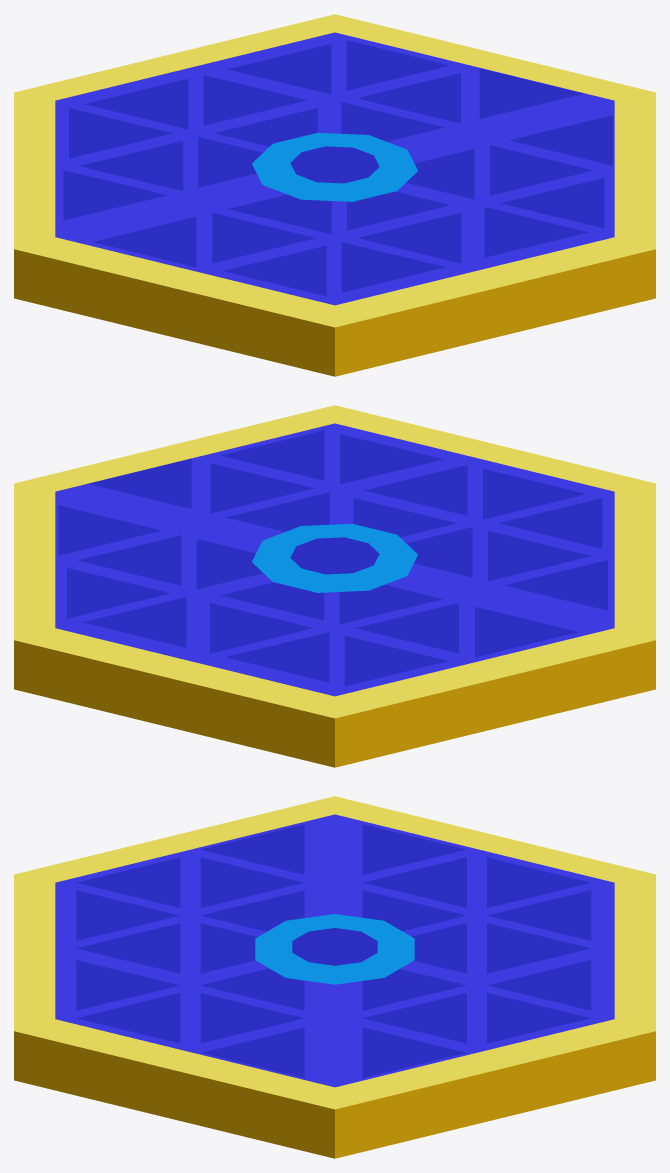
File: Aircraft_027_b.fbx
The picture shows the model from 3 angles, top to bottom: view 1: azimuth 30°, elevation 25°; view 2: azimuth 150°, elevation 25°; view 3: azimuth 270°, elevation 25°; orthographic projection.
Visible parts, largest first — view 1: Aircraft_027_b; view 2: Aircraft_027_b; view 3: Aircraft_027_b.
Boxes of the visible parts, left/top/right/bottom form: Aircraft_027_b: left=14, top=14, right=655, bottom=376; Aircraft_027_b: left=14, top=405, right=655, bottom=767; Aircraft_027_b: left=14, top=796, right=655, bottom=1158.
Size of the model in its own units: 4.92 by 0.4485 by 4.26.
